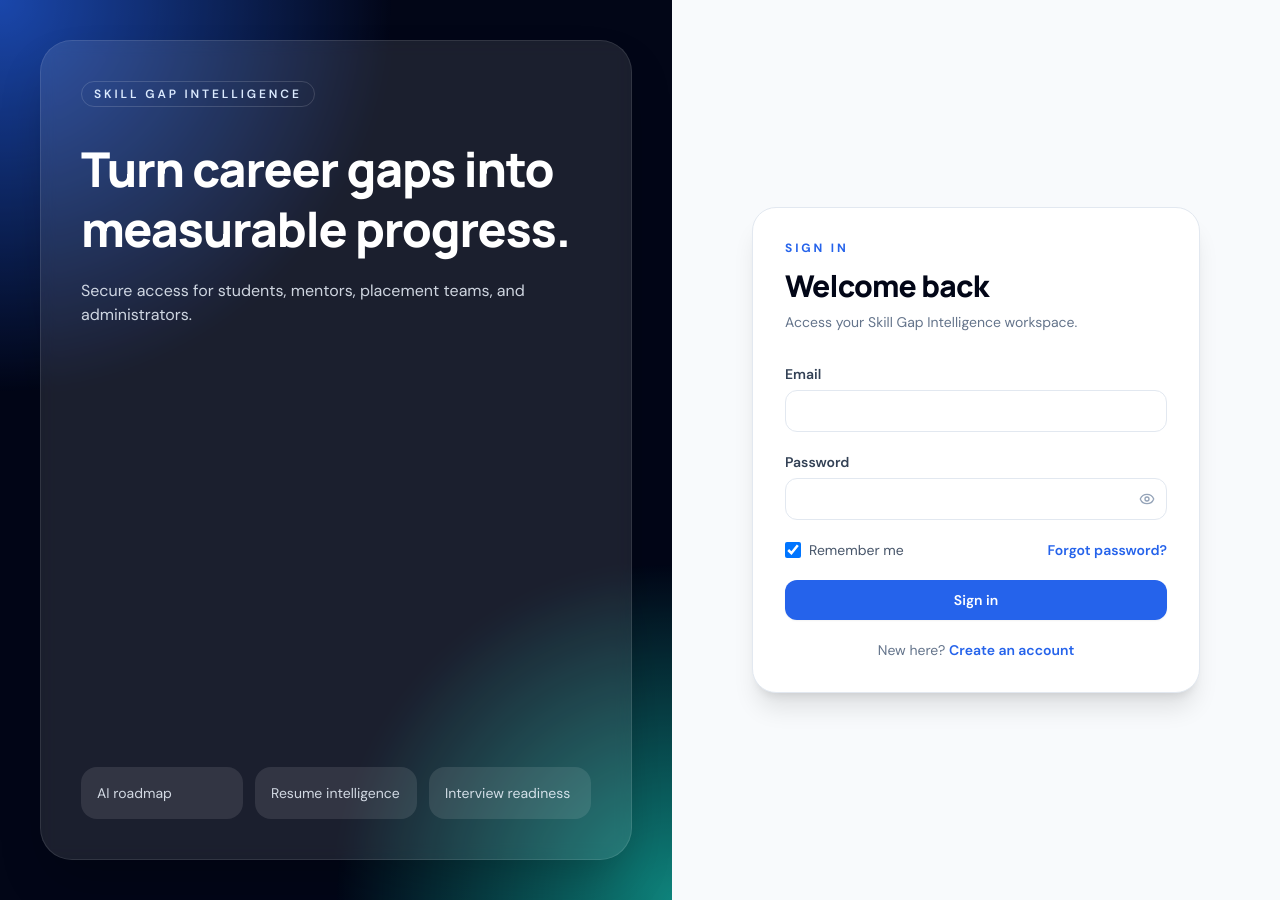
Test: LoginPage › shows an inline wrong-password error for invalid credentials
Type "student@example.com" into the field labelled "Email" at [976, 411], box [785, 390, 1167, 432]
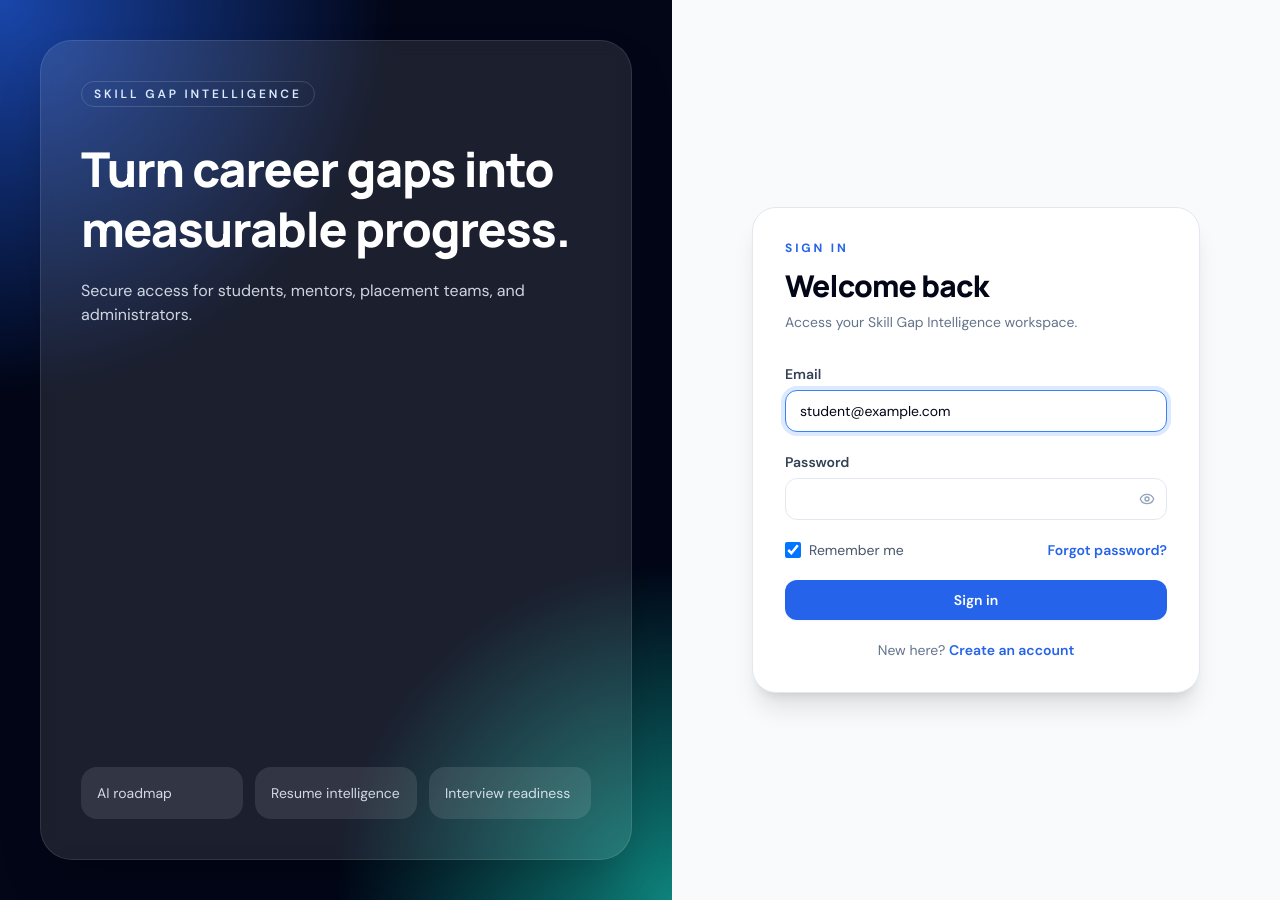
Type "IncorrectPass123!" into the password field labelled "Password" at [976, 499], box [785, 478, 1167, 520]
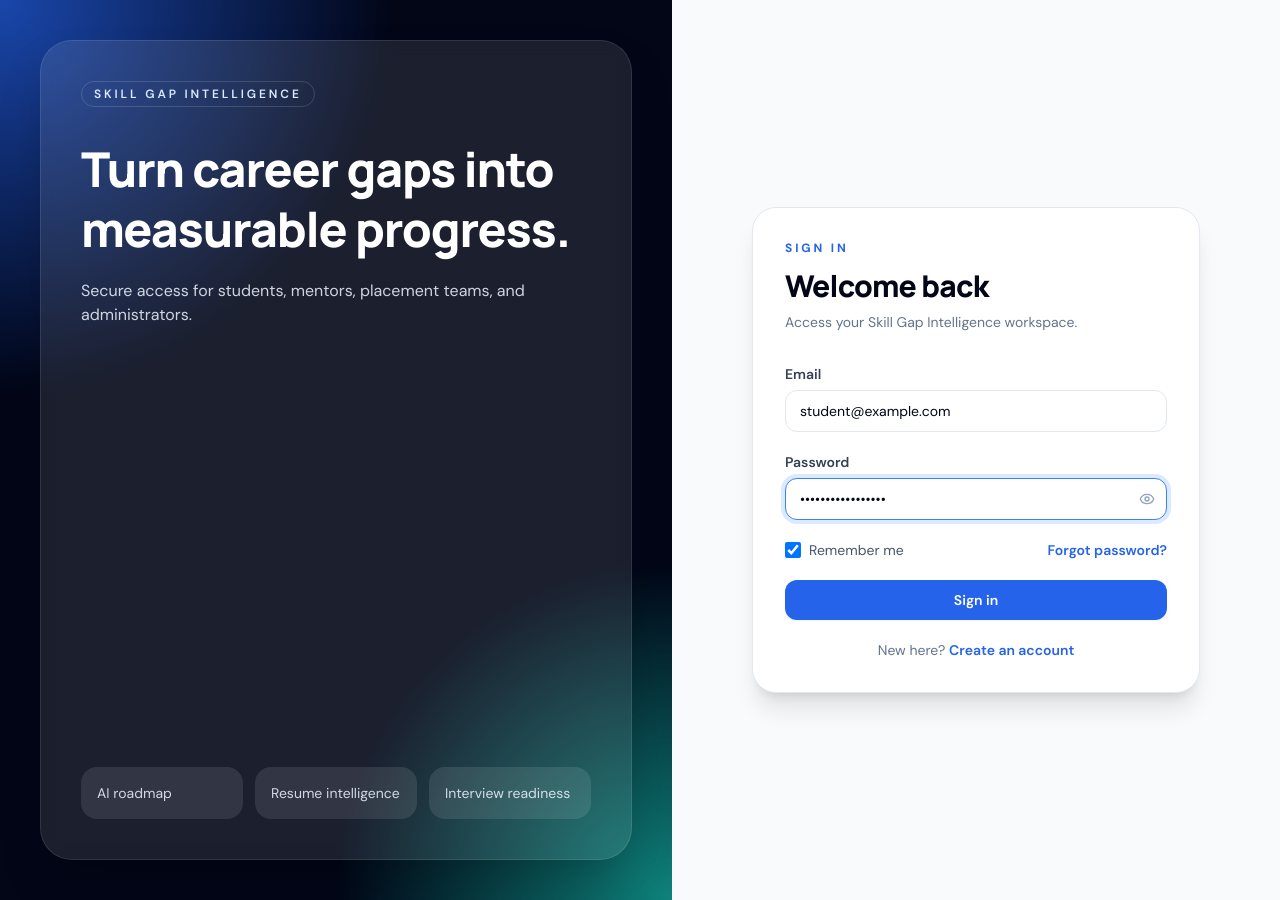
Click the button "Sign in" at [976, 600], box [785, 580, 1167, 620]
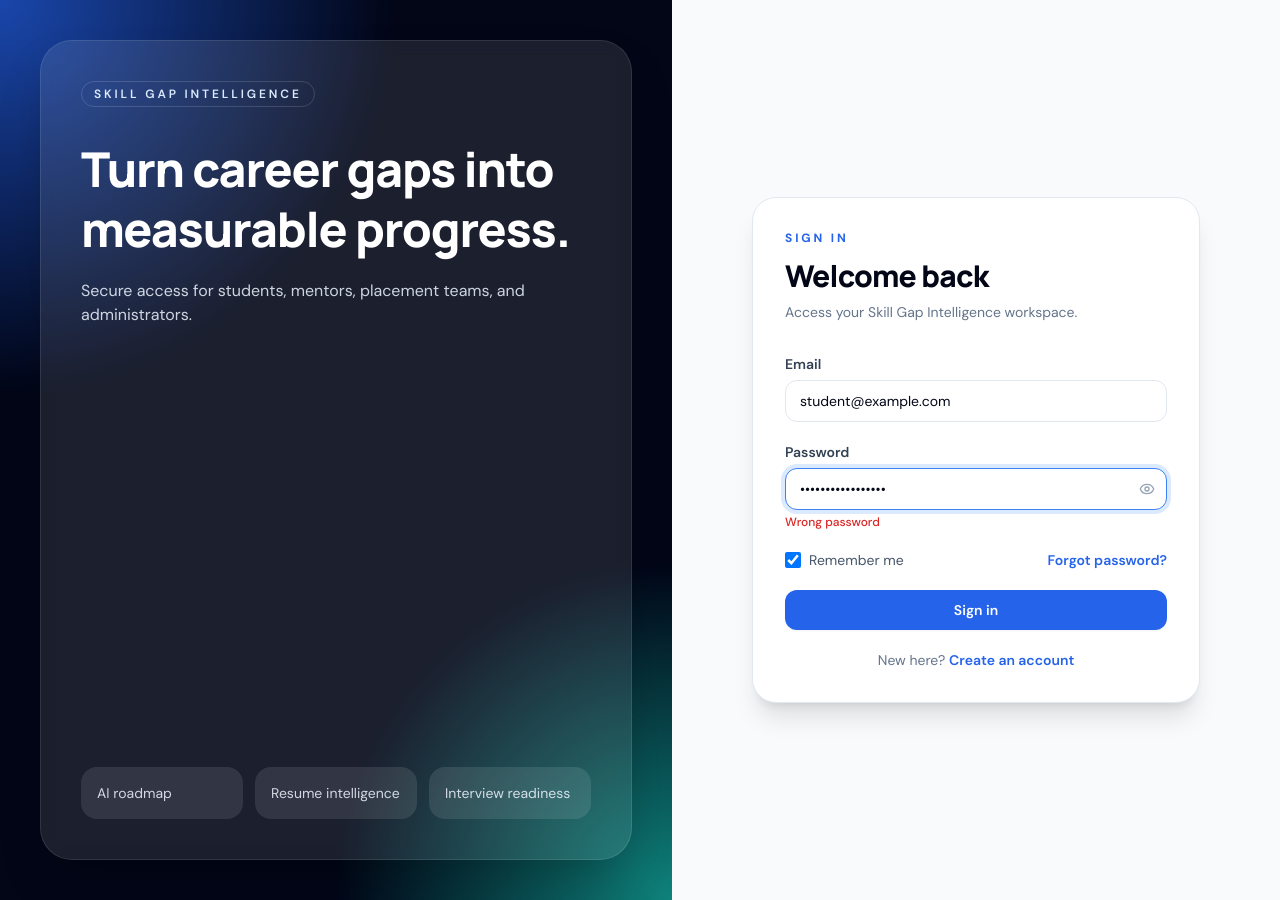
Now the text "Wrong password" is shown, box [785, 514, 880, 530]
